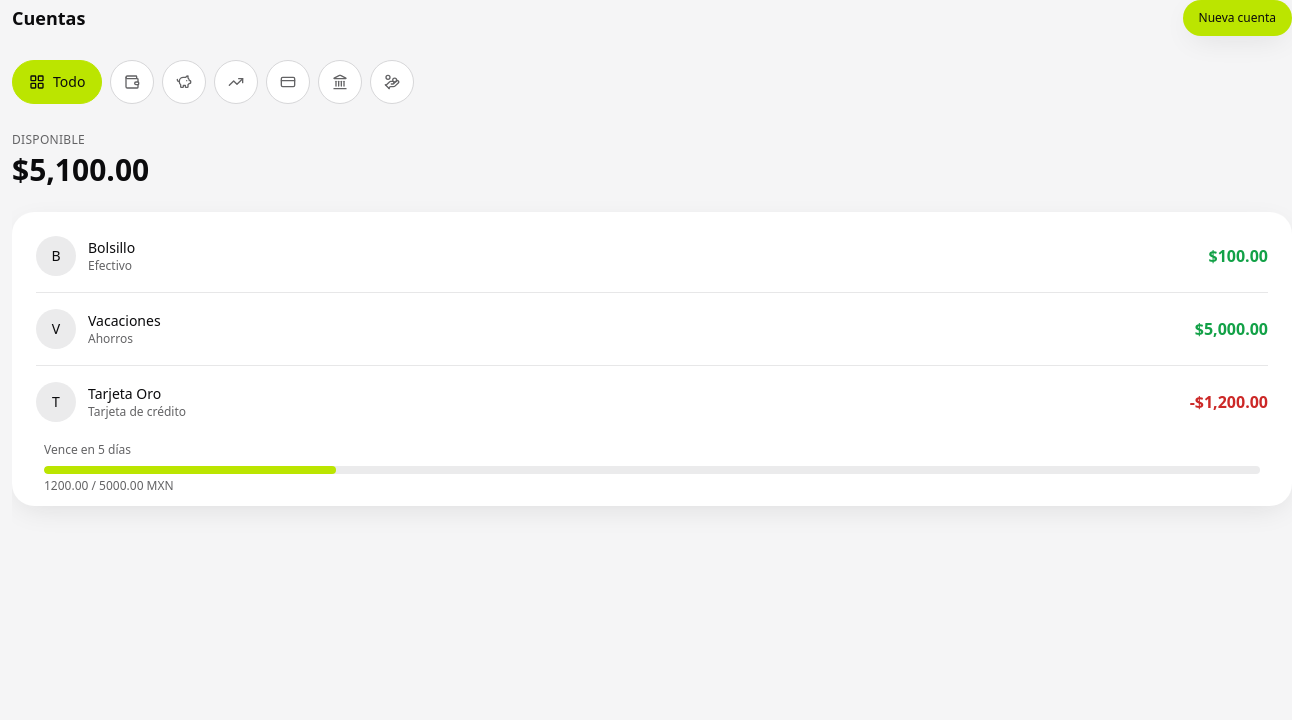
Test case: AccountsScreen — tabbed type filter › a tab with zero matching accounts shows the empty state, not a crash
The width and height of the screenshot is (1292, 720).
Click the tab named "Prestado" at [392, 82], box [370, 60, 414, 104]
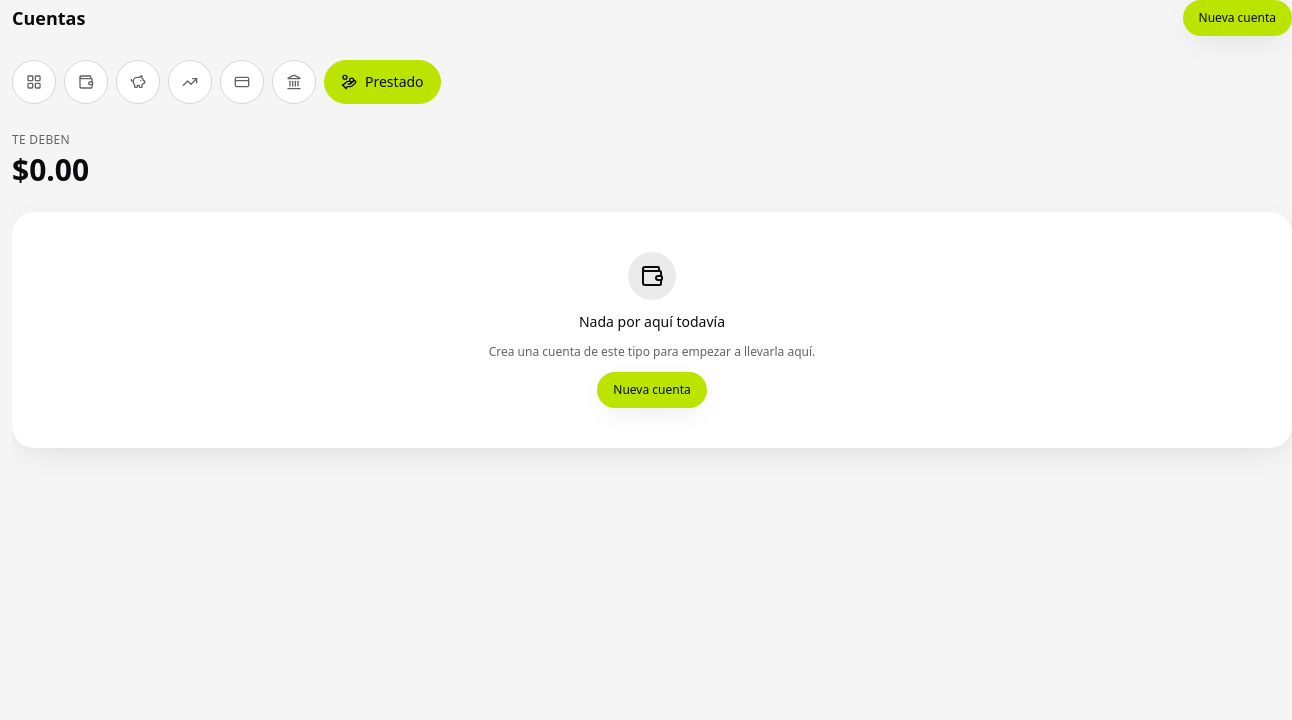
Check: the heading "Nada por aquí todavía" is shown, box [579, 312, 725, 332]
